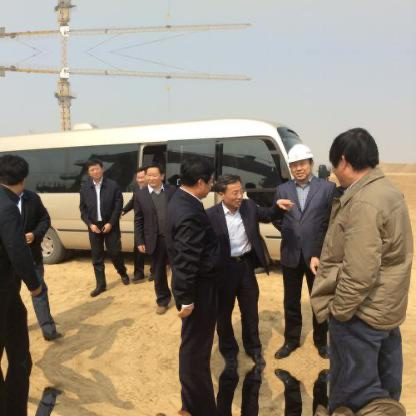No Safety Helmet: (327, 121, 385, 198), (178, 151, 221, 209), (1, 152, 38, 199), (216, 171, 248, 215), (143, 162, 175, 200), (84, 156, 108, 186)
Safety Helmet: (281, 140, 318, 187)
